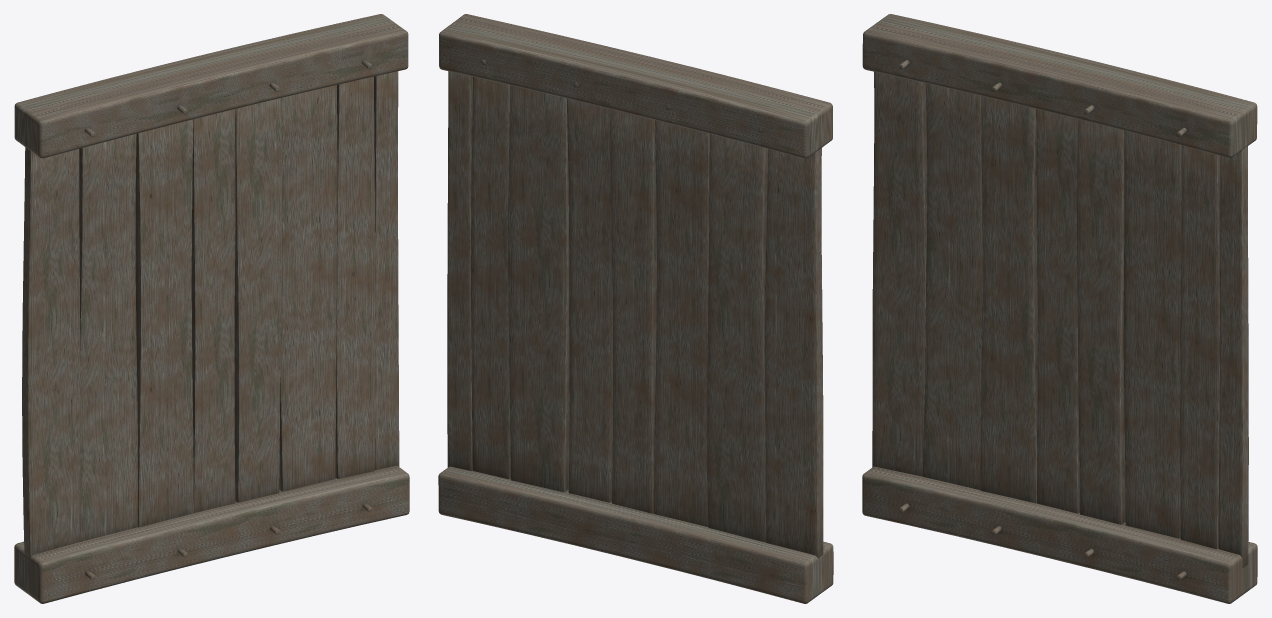
The model's file is wall_plank_2m.glb.
The picture shows the model from 3 angles, left to right: view 1: azimuth 30°, elevation 25°; view 2: azimuth 150°, elevation 25°; view 3: azimuth 330°, elevation 25°; orthographic projection.
Visible parts, largest first — view 1: wall_plank_2m; view 2: wall_plank_2m; view 3: wall_plank_2m.
Part boxes in pixels (x1,y1,x2,y2): wall_plank_2m: [14, 14, 409, 603]; wall_plank_2m: [438, 14, 833, 603]; wall_plank_2m: [862, 14, 1257, 603].
Size of the model in its own units: 2.01 by 2.51 by 0.323.
Materials: 1 (1 with a texture image).
